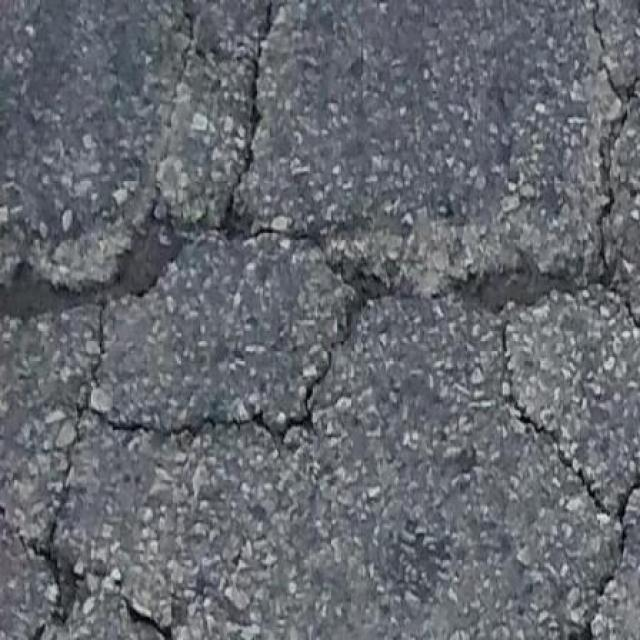Crack: (440, 12, 640, 536), (0, 96, 270, 407), (1, 461, 172, 640), (278, 228, 422, 383), (92, 387, 319, 441), (244, 4, 278, 178), (568, 552, 618, 640), (180, 2, 198, 93), (612, 289, 640, 328)
